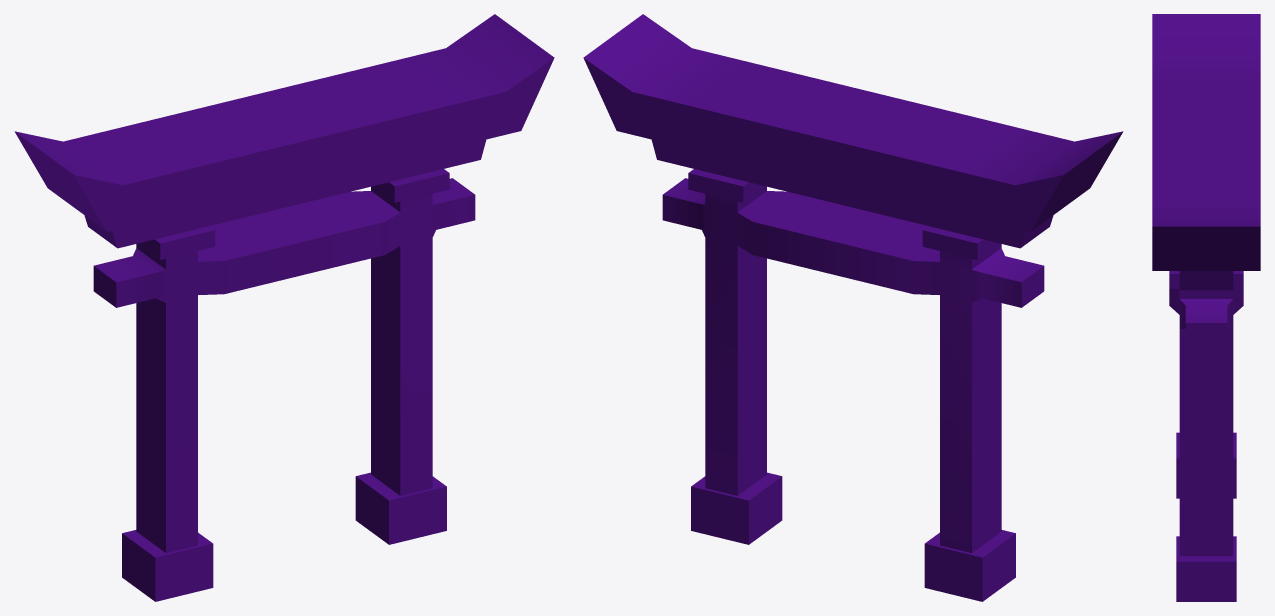
Rendered from ArcoJapones.fbx.
3 views of the same model, side by side, from view 1: azimuth 30°, elevation 25°; view 2: azimuth 150°, elevation 25°; view 3: azimuth 270°, elevation 25° (orthographic). The views are drawn at different scales.
Parts seen in each view (by area): view 1: Box002; view 2: Box002; view 3: Box002.
Boxes of the visible parts, bbox=[...] form: Box002: bbox=[14, 14, 554, 601]; Box002: bbox=[583, 14, 1123, 601]; Box002: bbox=[1152, 14, 1260, 601].
Bounding box in the file's own units: 737 × 674 × 159.
